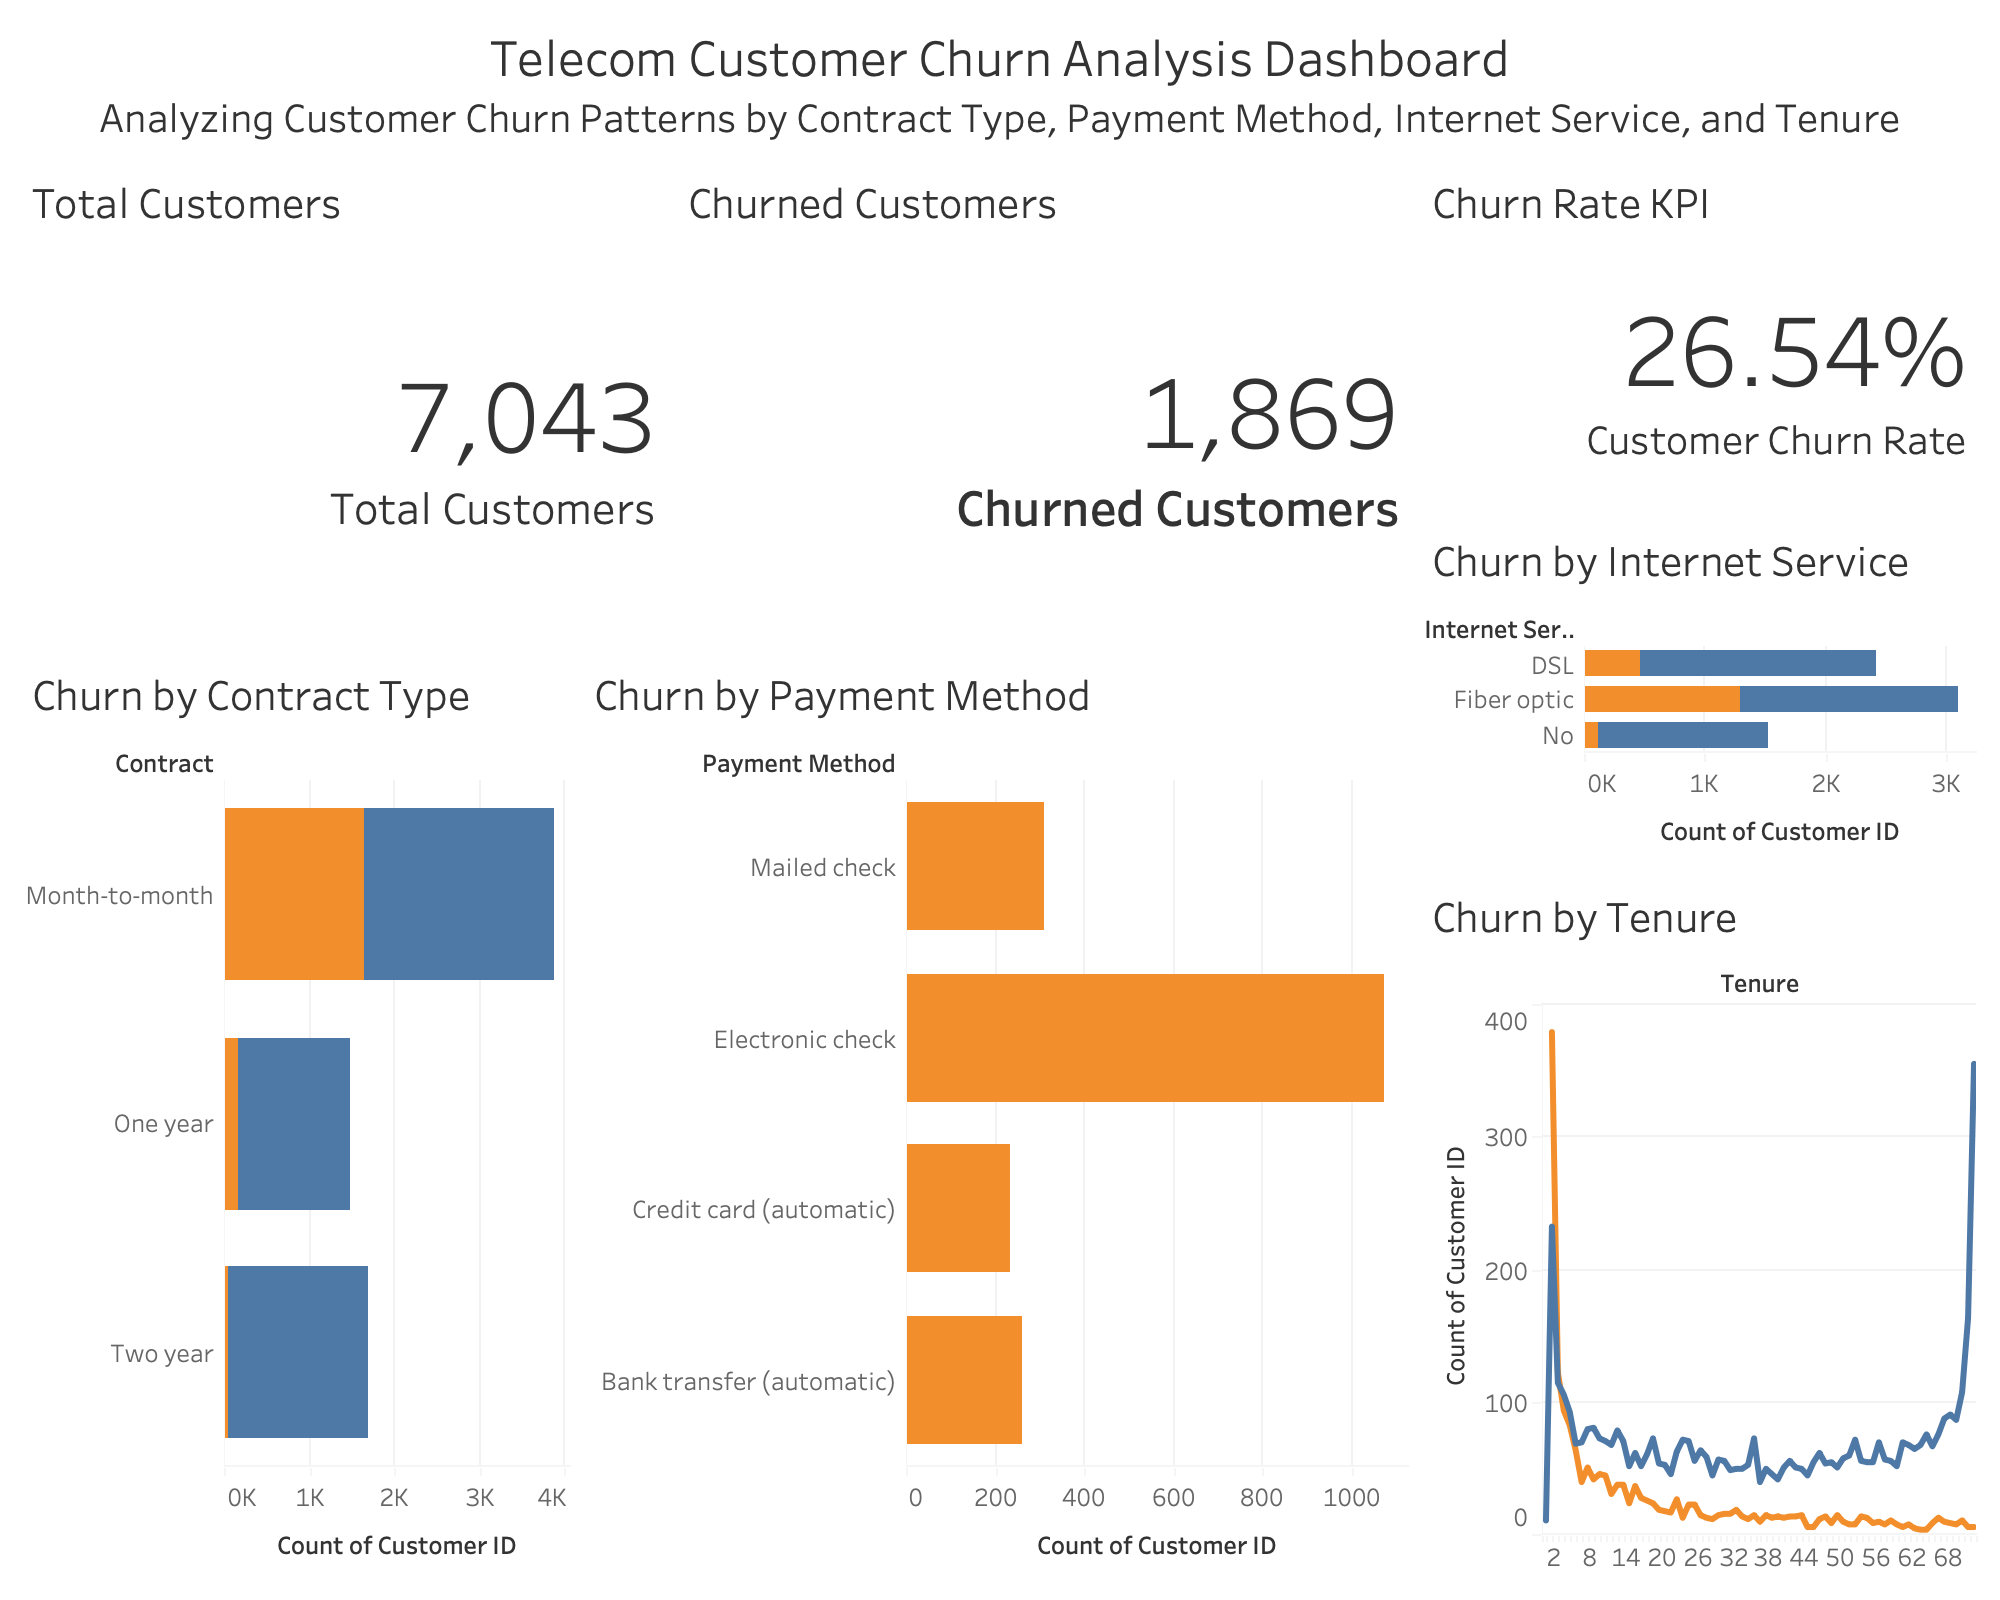

The page's visual inventory and layout, read from the dashboard file:
{"tool":"tableau","page":{"name":"Telecom Customer Churn Analysis Dashboard","canvas":[1000,800],"ordinal":0},"visuals":[{"type":"worksheet","title":"Total Customers","mark":"Automatic","box":[8,8,328,270]},{"type":"worksheet","title":"Churned Customers","mark":"Automatic","box":[336,8,372,270]},{"type":"worksheet","title":"Churn Rate KPI","mark":"Automatic","box":[708,8,284,196]},{"type":"worksheet","title":"Churn by Internet Service","mark":"Automatic","rows":["InternetService"],"cols":["customerID"],"box":[708,204,284,196]},{"type":"worksheet","title":"Churn by Contract Type","mark":"Automatic","rows":["Contract"],"cols":["customerID"],"box":[8,278,281,514]},{"type":"worksheet","title":"Churn by Payment Method","mark":"Automatic","rows":["PaymentMethod"],"cols":["customerID"],"box":[289,278,419,514]},{"type":"worksheet","title":"Churn by Tenure","mark":"Line","rows":["customerID"],"cols":["tenure"],"box":[708,400,284,392]}]}

Visuals, with their boxes in screenshot pixels (x1, y1, x2, y2), scaled from the page's 1000x800 canvas onto the 2000x1600 screenshot:
"Total Customers" worksheet: bbox=[16, 16, 672, 556]
"Churned Customers" worksheet: bbox=[672, 16, 1416, 556]
"Churn Rate KPI" worksheet: bbox=[1416, 16, 1984, 408]
"Churn by Internet Service" worksheet: bbox=[1416, 408, 1984, 800]
"Churn by Contract Type" worksheet: bbox=[16, 556, 578, 1584]
"Churn by Payment Method" worksheet: bbox=[578, 556, 1416, 1584]
"Churn by Tenure" worksheet (Line marks): bbox=[1416, 800, 1984, 1584]
